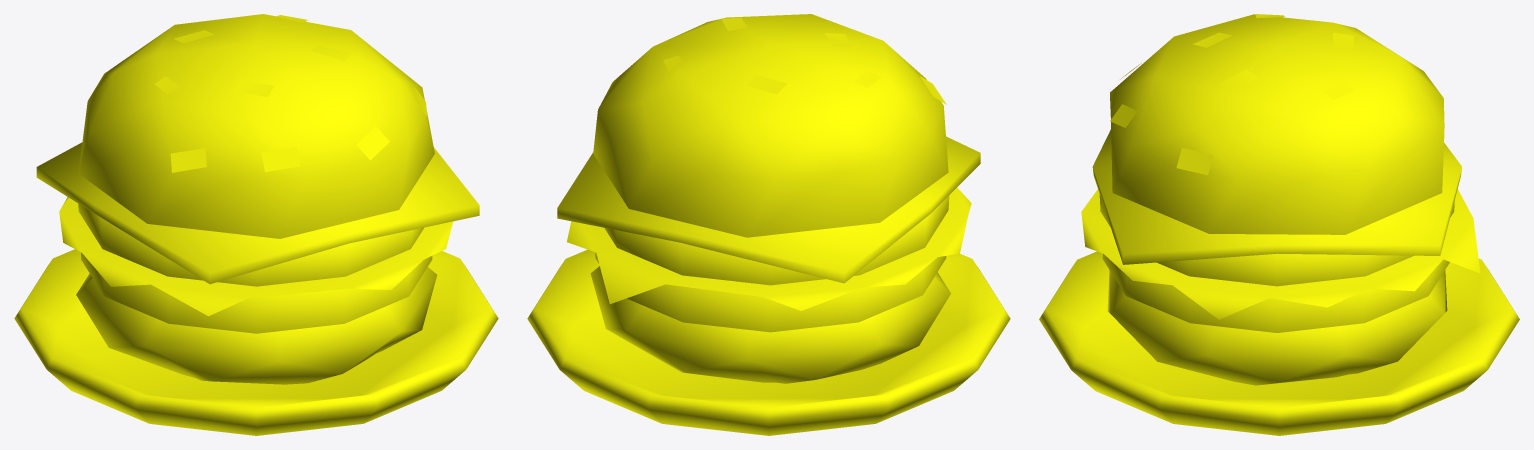
Rendered from 57_Food_Model.gltf.
The picture shows the model from 3 angles, left to right: view 1: azimuth 30°, elevation 25°; view 2: azimuth 150°, elevation 25°; view 3: azimuth 270°, elevation 25°; orthographic projection.
Parts seen in each view (by area): view 1: 57_Food_Model; view 2: 57_Food_Model; view 3: 57_Food_Model.
Boxes of the visible parts, box(x1,y1,x2,y2) form: 57_Food_Model: box(14, 14, 498, 435); 57_Food_Model: box(527, 14, 1010, 435); 57_Food_Model: box(1039, 14, 1519, 435).
Bounding box in the file's own units: 1.44 × 0.989 × 1.44.
1 material, 1 textured.
